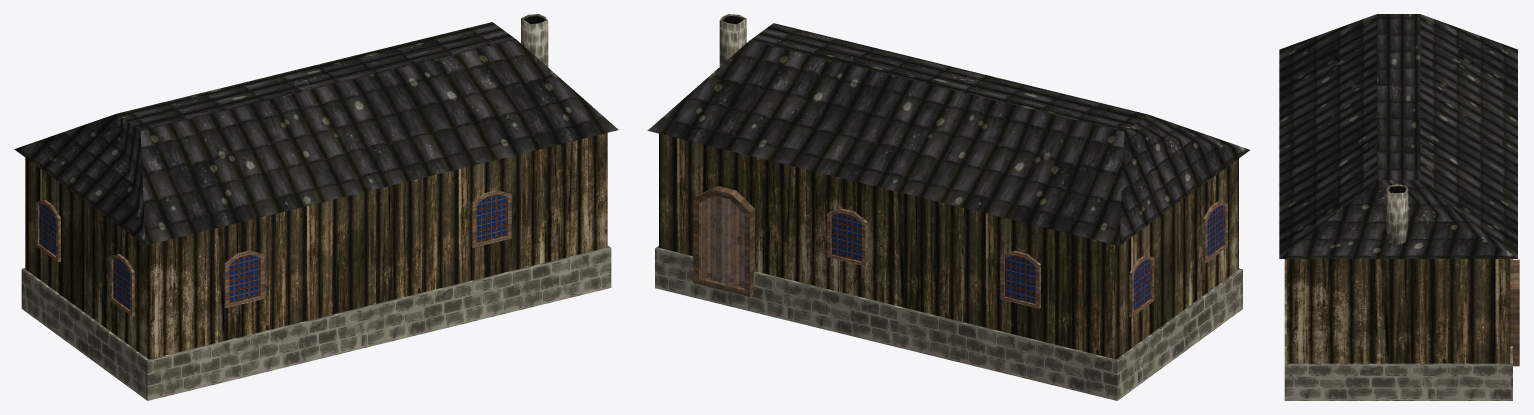
Rendered from building-3.glb.
The picture shows the model from 3 angles, left to right: view 1: azimuth 30°, elevation 25°; view 2: azimuth 150°, elevation 25°; view 3: azimuth 270°, elevation 25°; orthographic projection. The views are drawn at different scales.
Visible parts, largest first — view 1: Building_3; view 2: Building_3; view 3: Building_3.
Boxes of the visible parts, x1,y1,x2,y2 form: Building_3: [14, 14, 618, 400]; Building_3: [647, 14, 1249, 400]; Building_3: [1279, 14, 1519, 400].
Bounding box in the file's own units: 9.25 × 4.23 × 4.48.
Materials: 3 (3 with a texture image).
